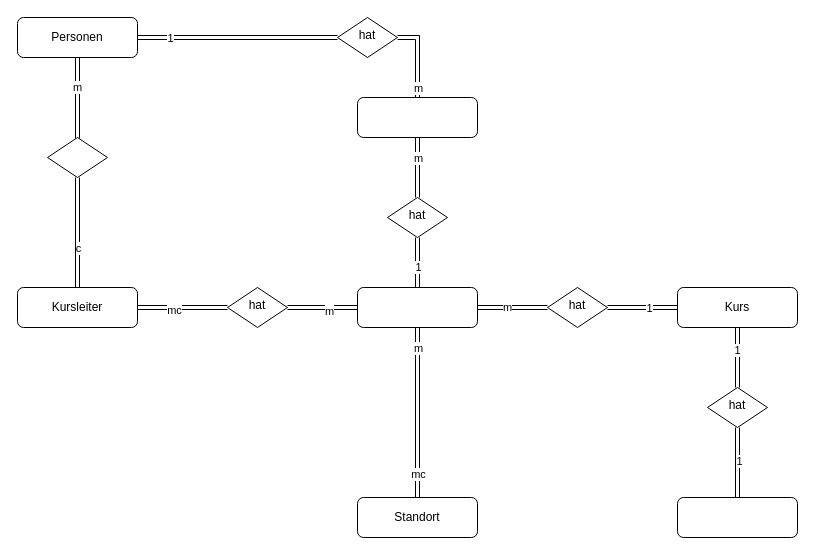
Some shapes in this 815 by 555 pixel diagram are drawn without their labels. Each missing label, with the centre of its shape:
ist: (x=77, y=157)
Teilnehmer: (x=417, y=117)
Themen: (x=737, y=517)
Veranstaltung: (x=417, y=307)
